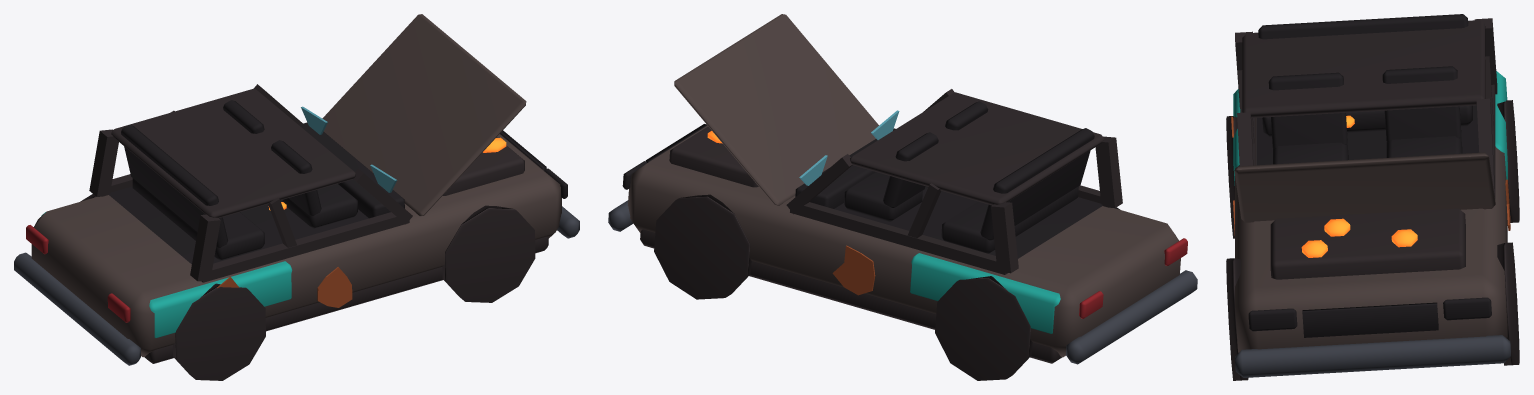
Rendered from city_car_burnt_b.glb.
3 views of the same model, side by side, from view 1: azimuth 30°, elevation 25°; view 2: azimuth 150°, elevation 25°; view 3: azimuth 270°, elevation 25° (orthographic). The views are drawn at different scales.
Parts seen in each view (by area): view 1: CarBurntB; view 2: CarBurntB; view 3: CarBurntB.
Part boxes in pixels (x1,y1,x2,y2): CarBurntB: [14, 14, 579, 380]; CarBurntB: [608, 14, 1197, 380]; CarBurntB: [1226, 14, 1519, 380].
Size of the model in its own units: 4.2 by 1.9 by 1.96.
